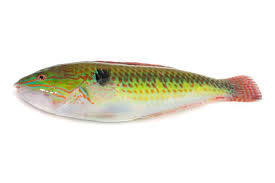bera: (5, 46, 269, 132)
